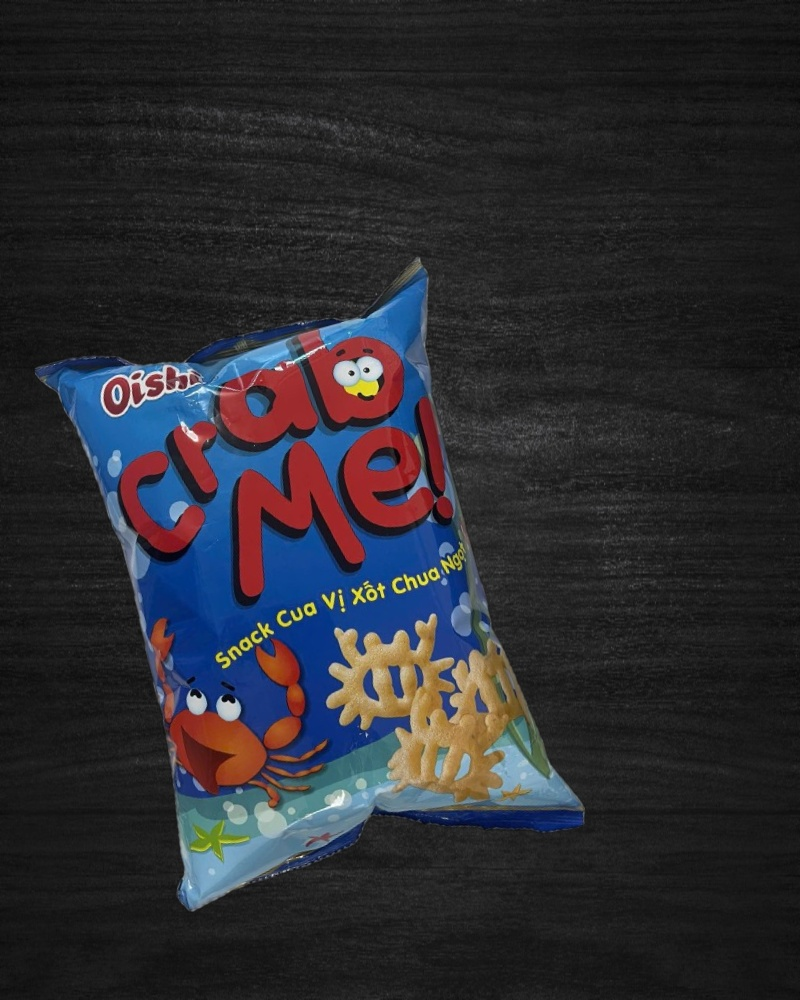Snack cua: (32, 252, 588, 926)
